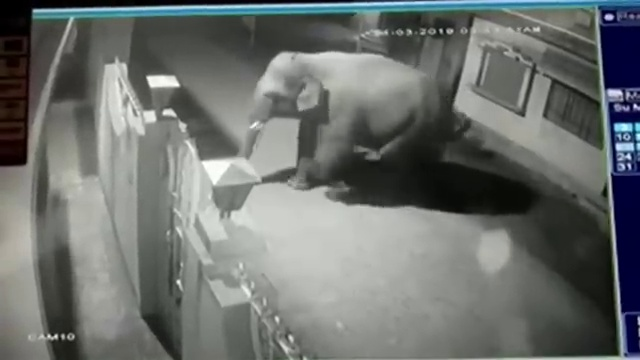Elephant: (238, 51, 444, 209)
